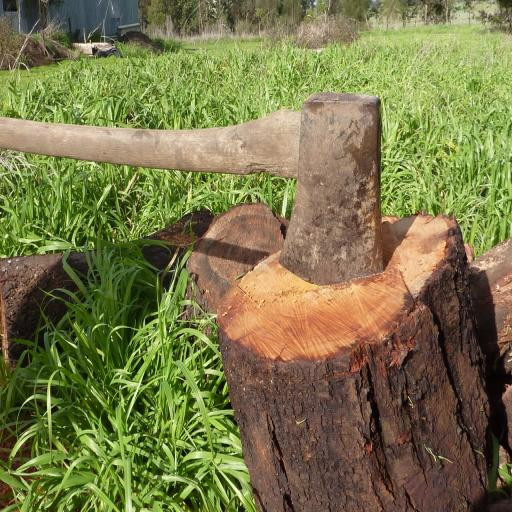Axe: (0, 95, 385, 286)
